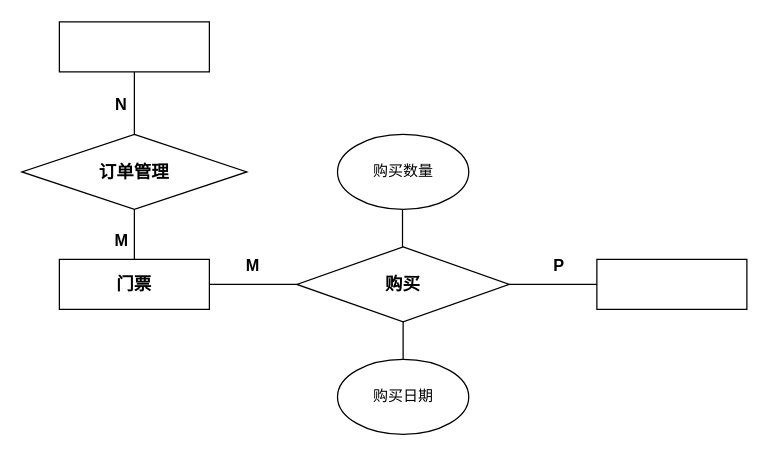
The diagram is 769 pixels wide and 456 high, and some of its shapes have lost their labels. The centre of each missing label's shape, as x and y in pixels:
"用户" belongs at pixel 671 283.
"营业员" belongs at pixel 133 46.
